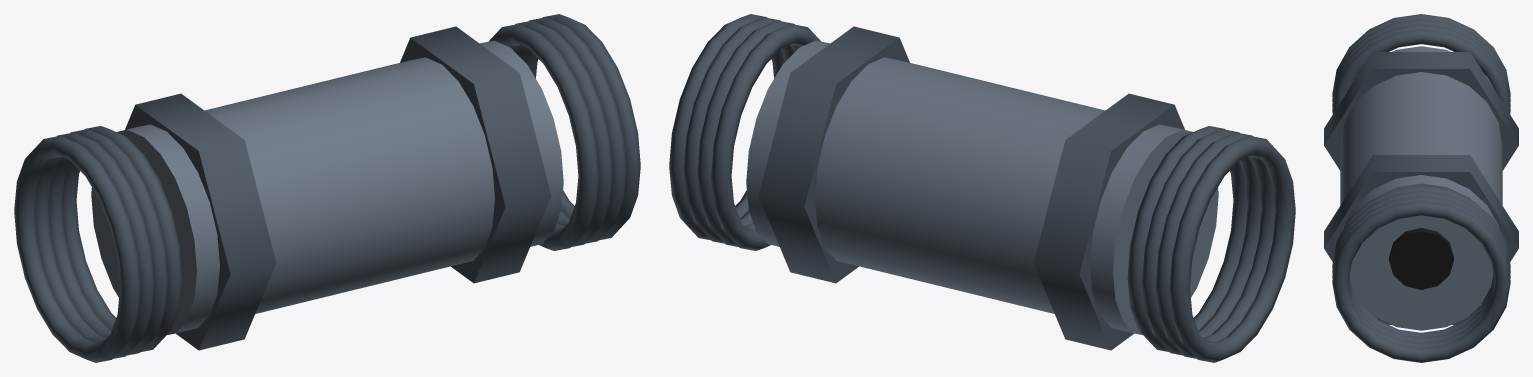
File: pipe-fitting.glb
3 views of the same model, side by side, from view 1: azimuth 30°, elevation 25°; view 2: azimuth 150°, elevation 25°; view 3: azimuth 270°, elevation 25° (orthographic). The views are drawn at different scales.
Bounding box in the file's own units: 0.5623 × 0.22 × 0.24.
